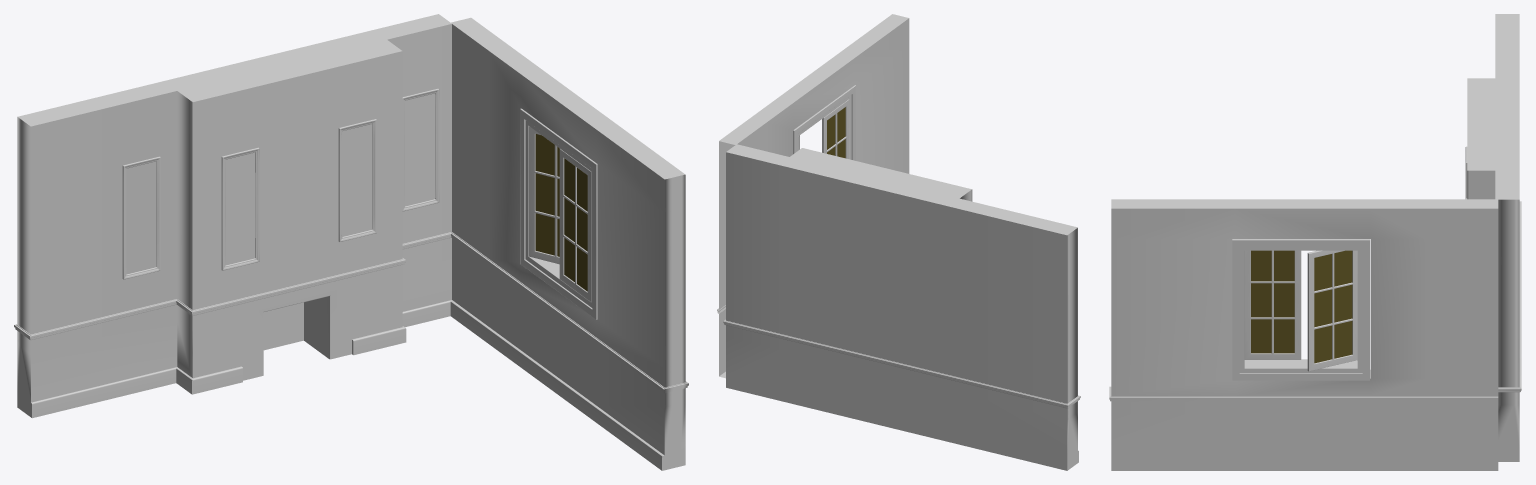
Rendered from Walls_Window.fbx.
The picture shows the model from 3 angles, left to right: view 1: azimuth 30°, elevation 25°; view 2: azimuth 150°, elevation 25°; view 3: azimuth 270°, elevation 25°; orthographic projection. The views are drawn at different scales.
Visible parts, largest first — view 1: Walls_Window; view 2: Walls_Window; view 3: Walls_Window.
Part boxes in pixels (x1,y1,x2,y2): Walls_Window: [14, 14, 688, 470]; Walls_Window: [717, 14, 1080, 470]; Walls_Window: [1109, 14, 1521, 470].
Bounding box in the file's own units: 628 × 386 × 550.
